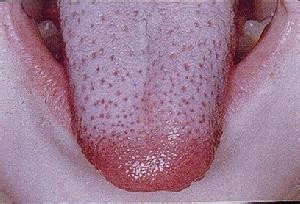baitaishe: (55, 1, 242, 192)
hongdianshe: (93, 65, 101, 73), (189, 106, 195, 114), (197, 61, 203, 68)
hongshe: (55, 1, 242, 192)
